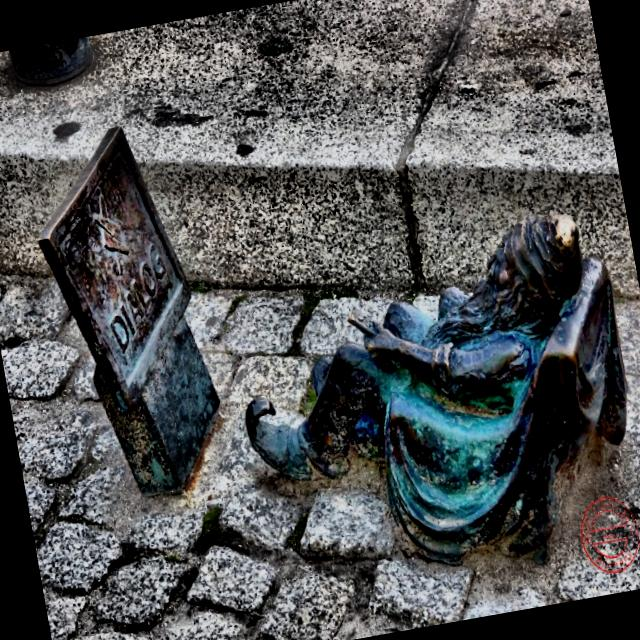Dialogomir: (243, 214, 629, 567), (38, 126, 221, 498)
